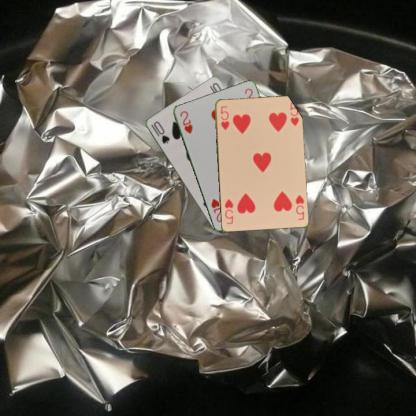10s: (151, 118, 171, 144)
2h: (178, 108, 194, 135)
5h: (292, 192, 305, 221), (218, 104, 230, 131)
